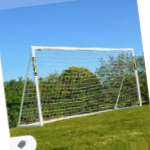goals: (14, 42, 144, 127)
